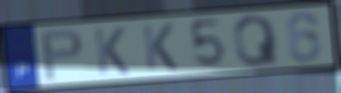5: (186, 17, 229, 70)
6: (285, 11, 323, 64)
K: (140, 22, 180, 73), (92, 25, 132, 76)
P: (39, 27, 85, 83)
Q: (231, 13, 282, 68)
